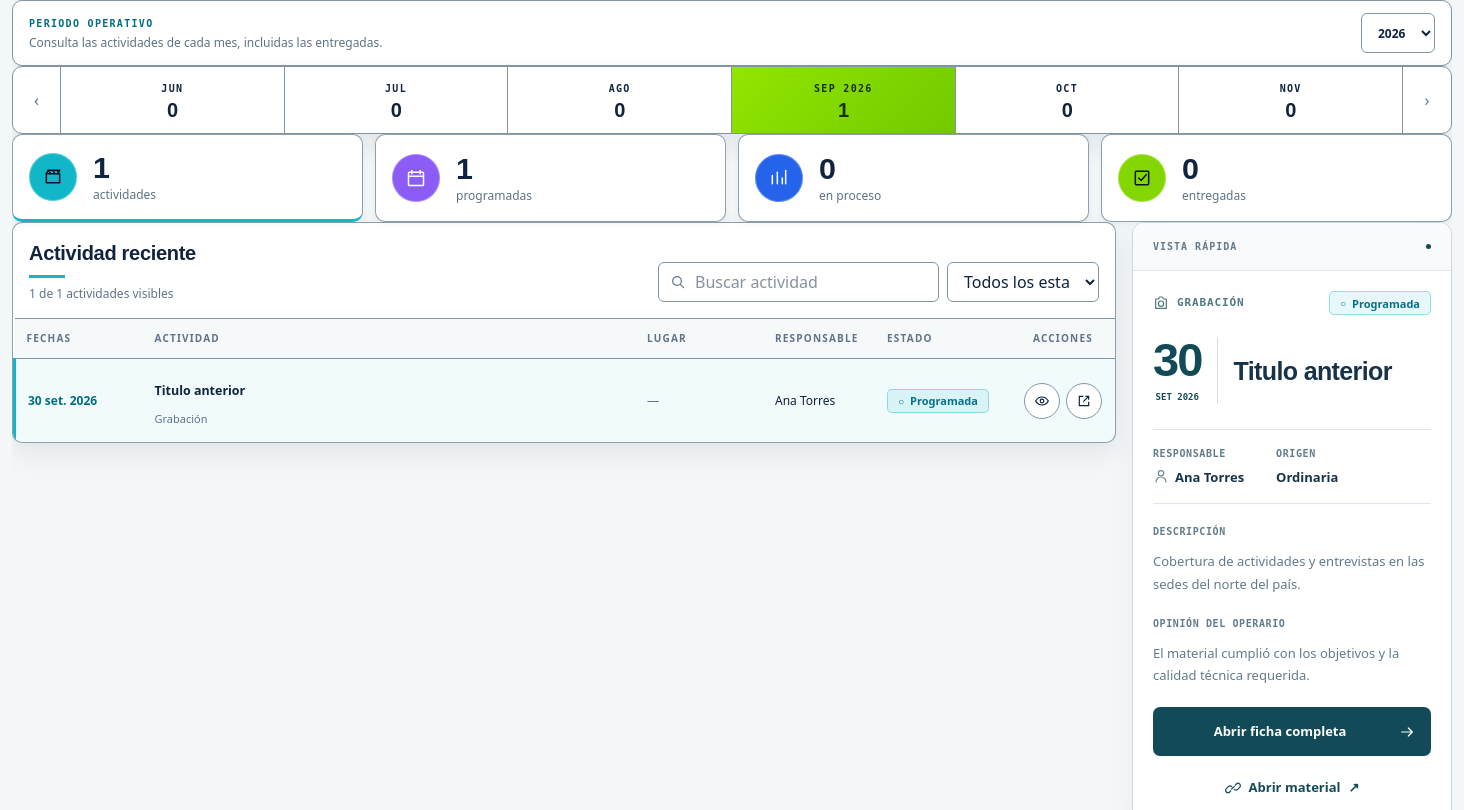
Test: un filtro sin coincidencias vacía también la vista previa
In the search field: (798, 282) x1=658 y1=262 x2=939 y2=302, type "NoCoincideConNinguna"
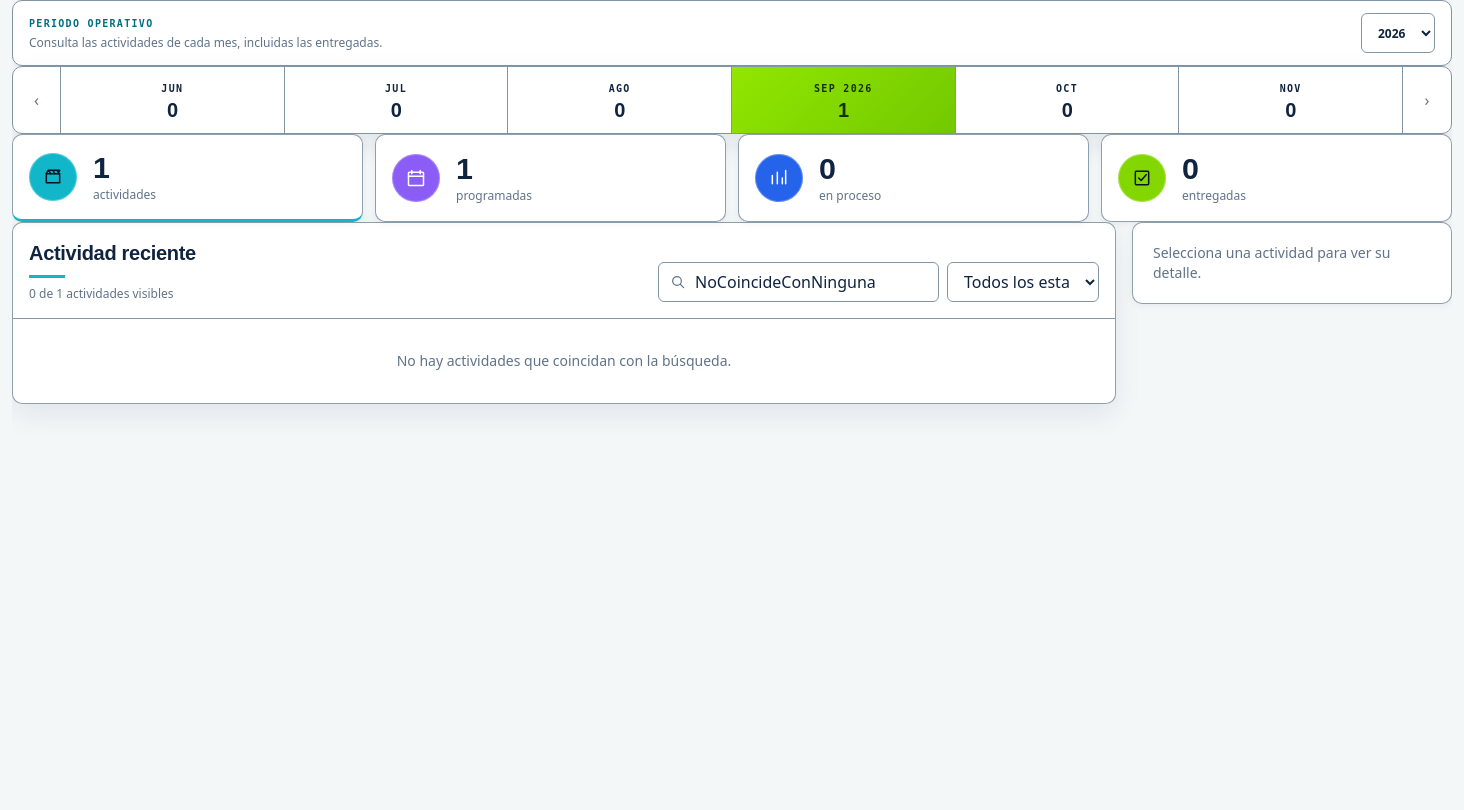
Check: the text "No hay actividades que coincidan con la búsqueda." is shown, box x1=13 y1=318 x2=1115 y2=403
Check: the link "Abrir ficha completa" is gone
